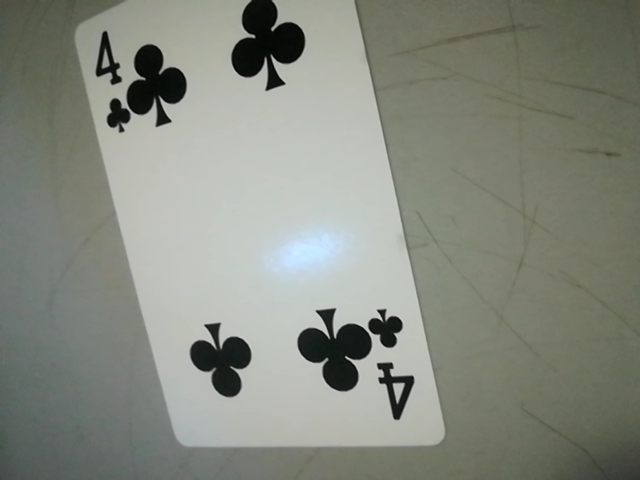mh 4: (362, 298, 428, 432)
